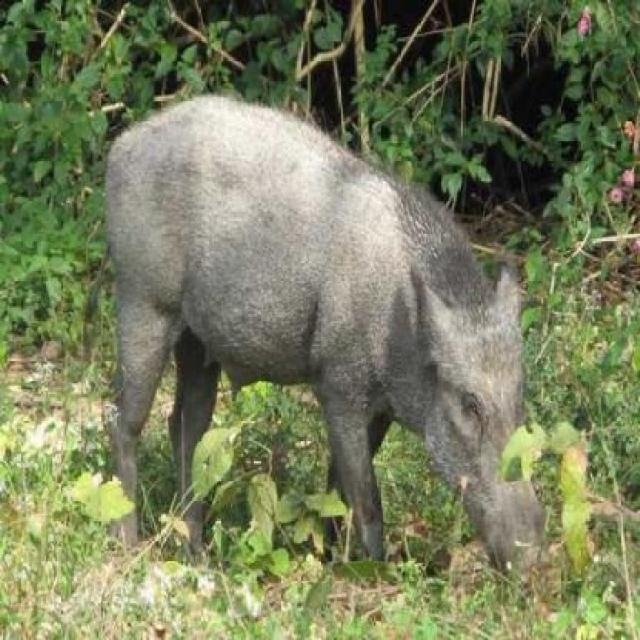pig: (59, 44, 596, 606)
